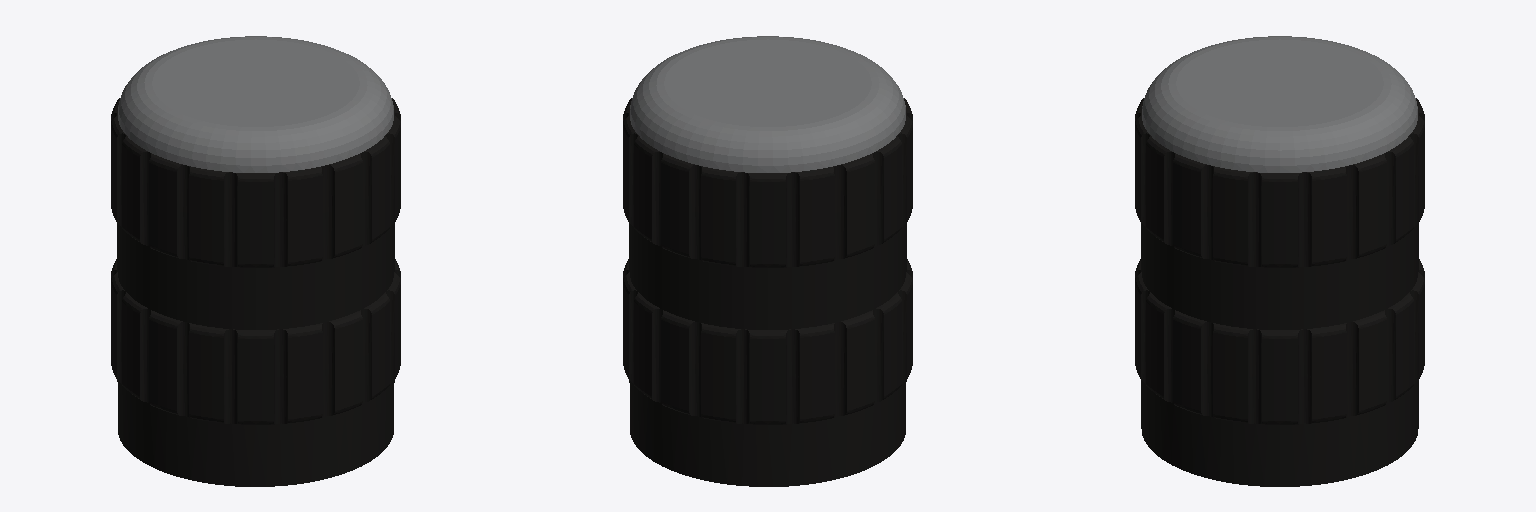
File: scanner_alt.obj
The picture shows the model from 3 angles: view 1: azimuth 30°, elevation 25°; view 2: azimuth 150°, elevation 25°; view 3: azimuth 270°, elevation 25°; orthographic projection.
Visible parts, largest first — view 1: scanner_body_alt; view 2: scanner_body_alt; view 3: scanner_body_alt.
Part boxes in pixels (left/top/right/bottom): scanner_body_alt: left=111, top=36, right=400, bottom=486; scanner_body_alt: left=623, top=36, right=912, bottom=486; scanner_body_alt: left=1135, top=36, right=1424, bottom=486.
Bounding box in the file's own units: 0.0839 × 0.11 × 0.0839.